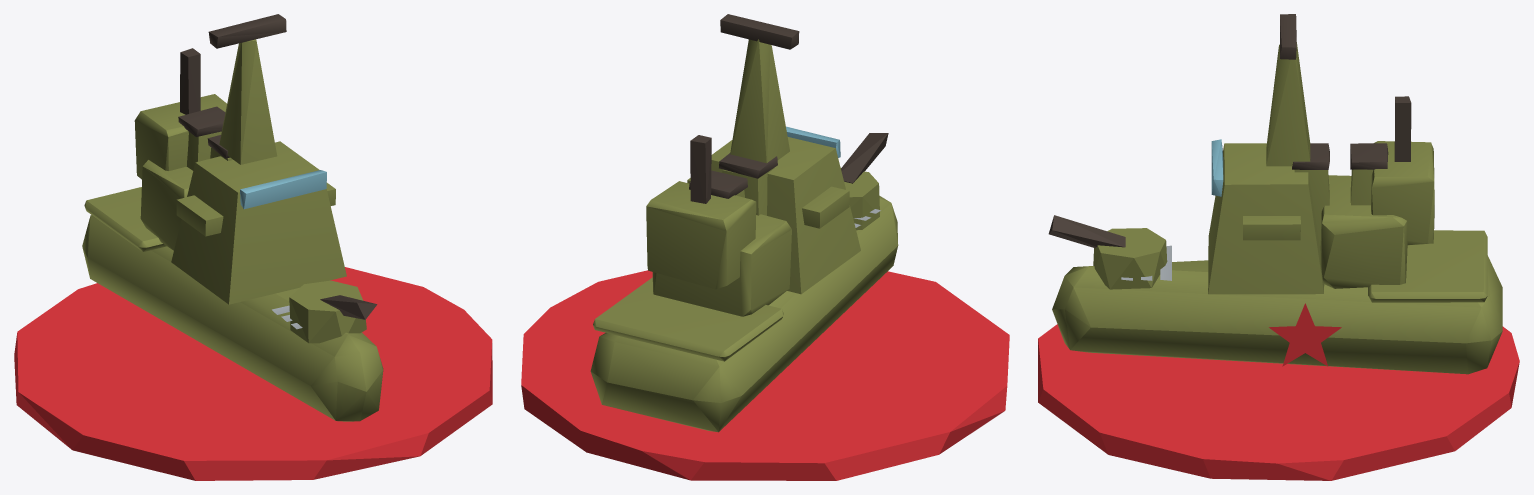
Rendered from soviet_union_navy_lod1.glb.
3 views of the same model, side by side, from view 1: azimuth 30°, elevation 25°; view 2: azimuth 150°, elevation 25°; view 3: azimuth 270°, elevation 25° (orthographic). The views are drawn at different scales.
Visible parts, largest first — view 1: body_hull, base_pedestal; view 2: body_hull, base_pedestal; view 3: body_hull, base_pedestal.
Boxes of the visible parts, x1,y1,x2,y2 form: body_hull: (82, 14, 383, 421); base_pedestal: (14, 267, 492, 480); body_hull: (590, 14, 898, 432); base_pedestal: (521, 270, 1009, 480); body_hull: (1048, 14, 1502, 374); base_pedestal: (1038, 324, 1519, 480).
Bounding box in the file's own units: 0.7751 × 0.6204 × 0.7751.
